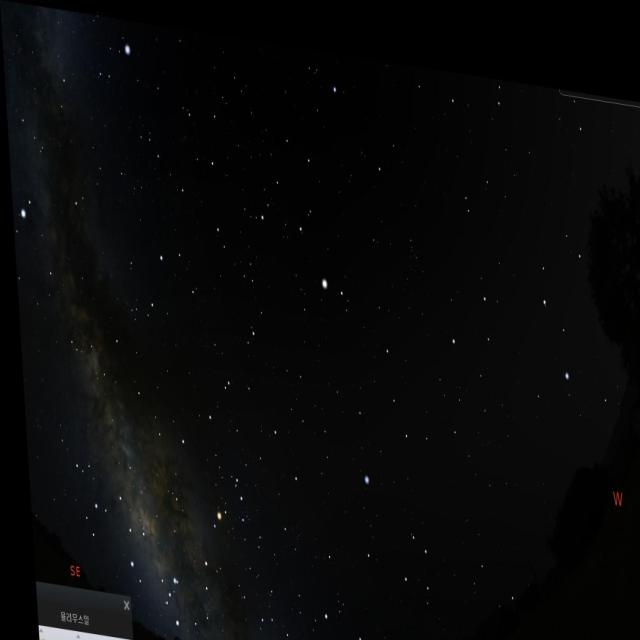aquila: (9, 172, 94, 356)
bootes: (258, 112, 354, 314)
leo: (432, 205, 588, 390)
lyra: (90, 26, 138, 96)
sagittarius: (62, 452, 157, 587)
scorpius: (151, 452, 253, 637)
